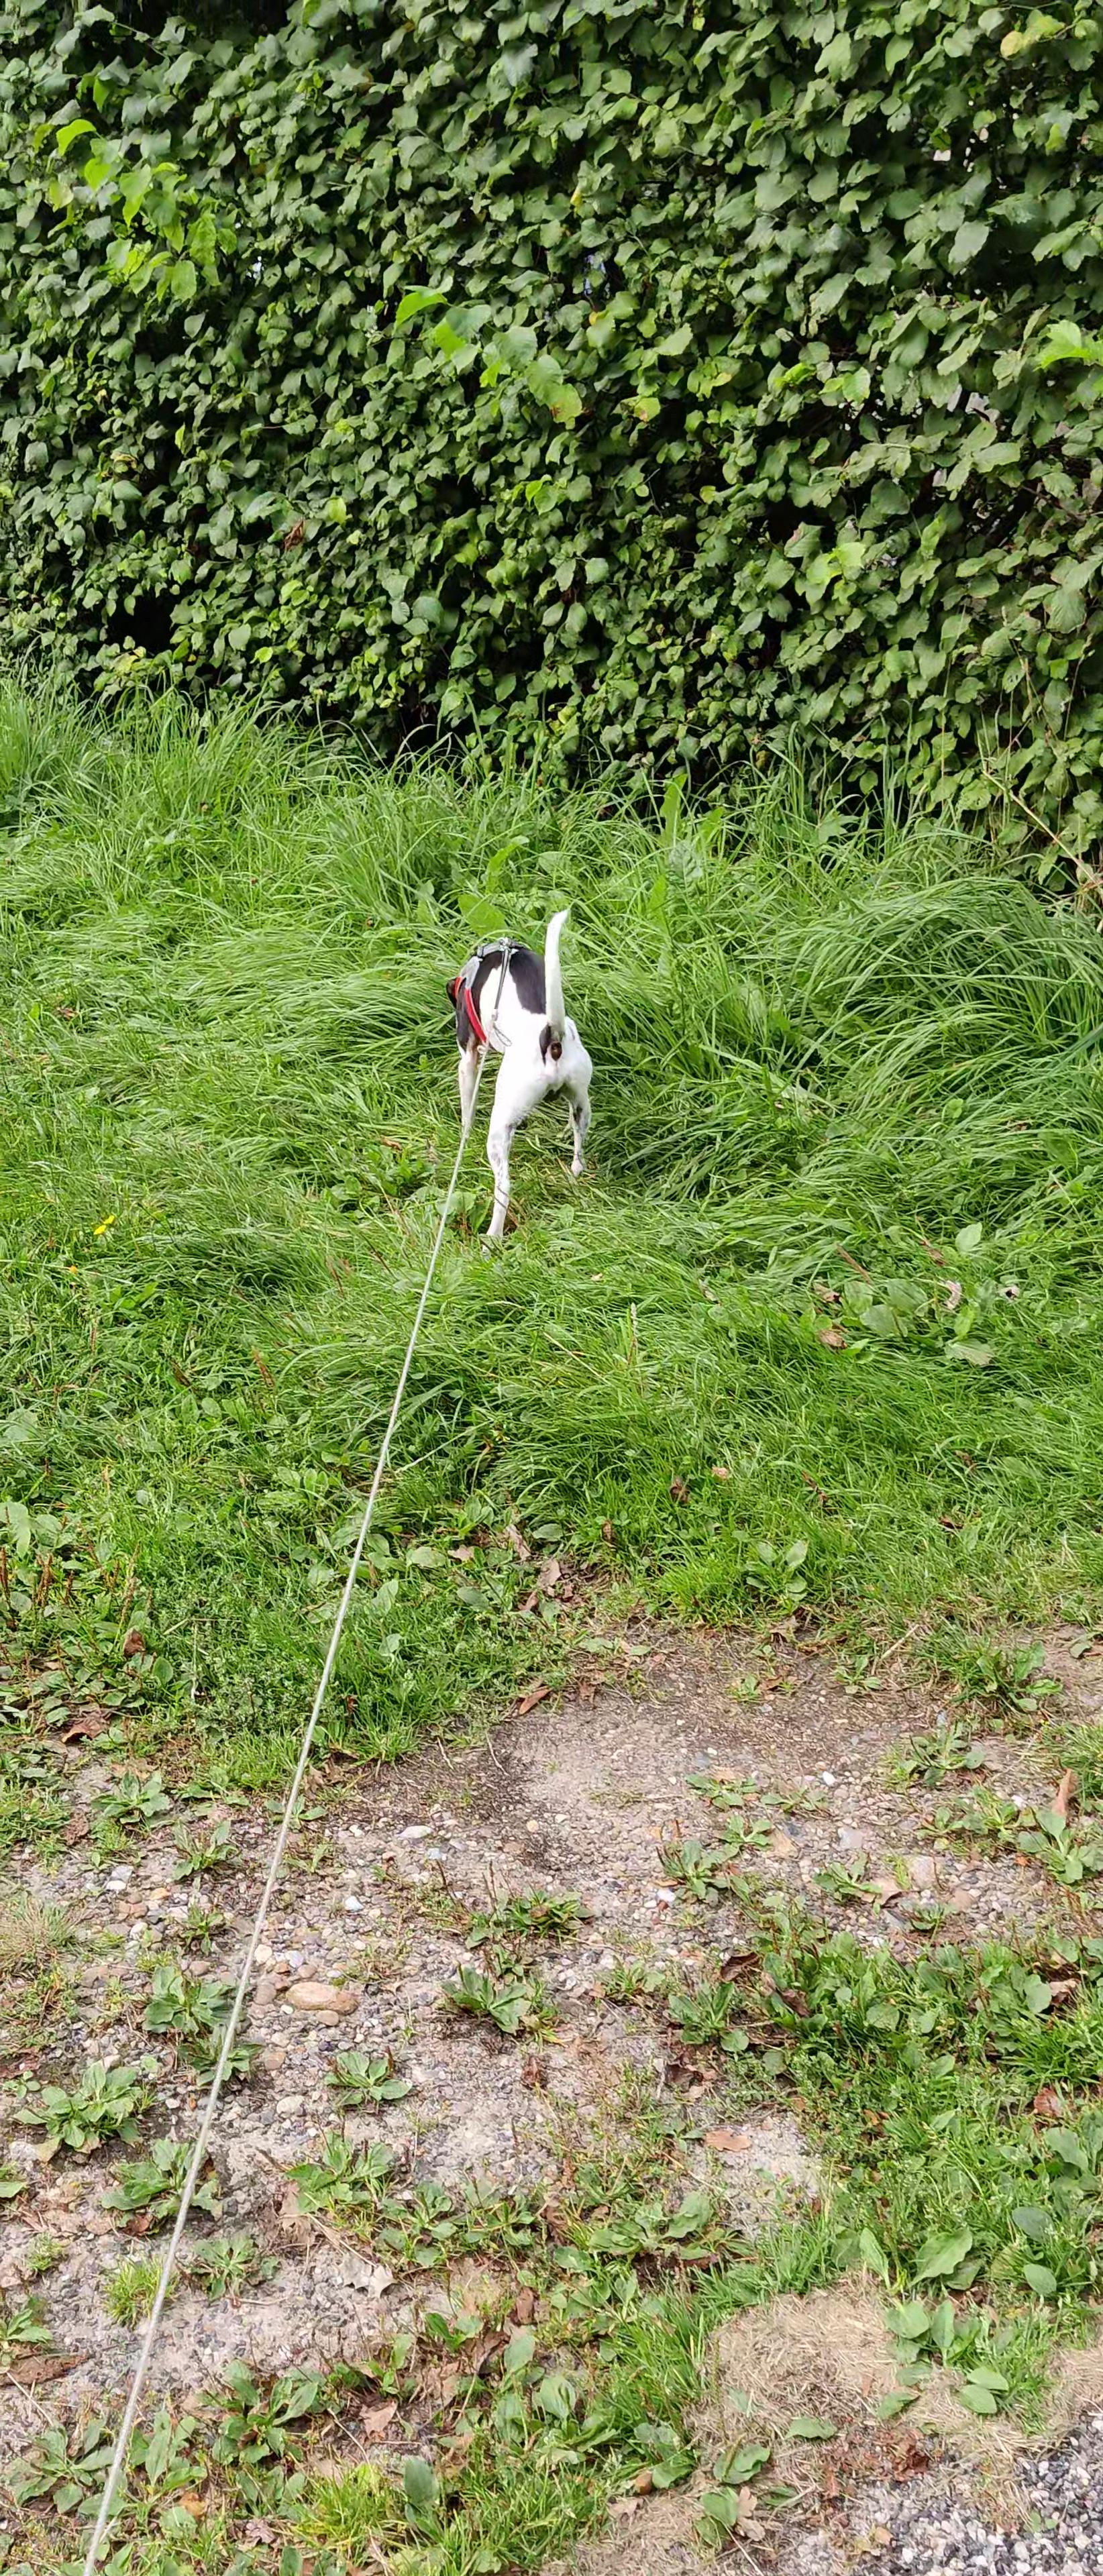Dog: (422, 894, 611, 1249)
